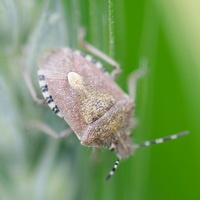insect: (38, 44, 188, 176)
